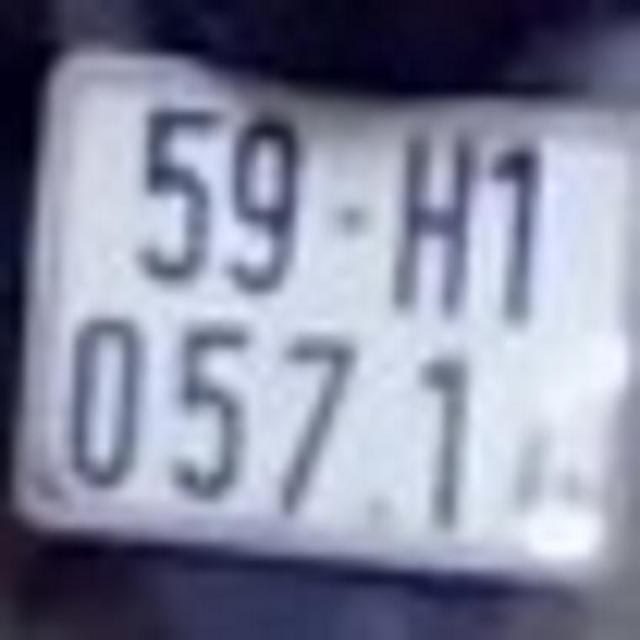0: (69, 311, 142, 504)
1: (416, 326, 469, 524), (494, 121, 539, 329)
5: (145, 100, 213, 288), (184, 318, 250, 492)
7: (278, 328, 360, 524)
9: (228, 120, 296, 298)
H: (389, 123, 472, 314)
